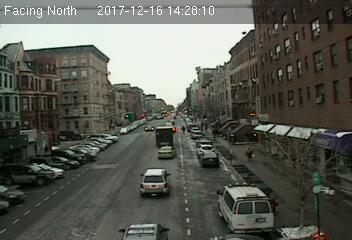car: (138, 167, 170, 198), (118, 222, 169, 240), (200, 150, 220, 167), (158, 147, 177, 158)
police: (217, 182, 275, 232)
ups: (155, 127, 173, 148)
